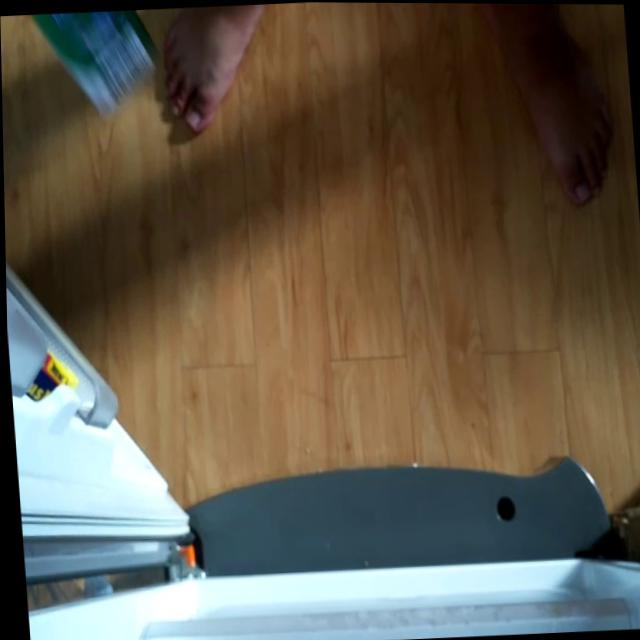milk: (0, 7, 192, 119)
